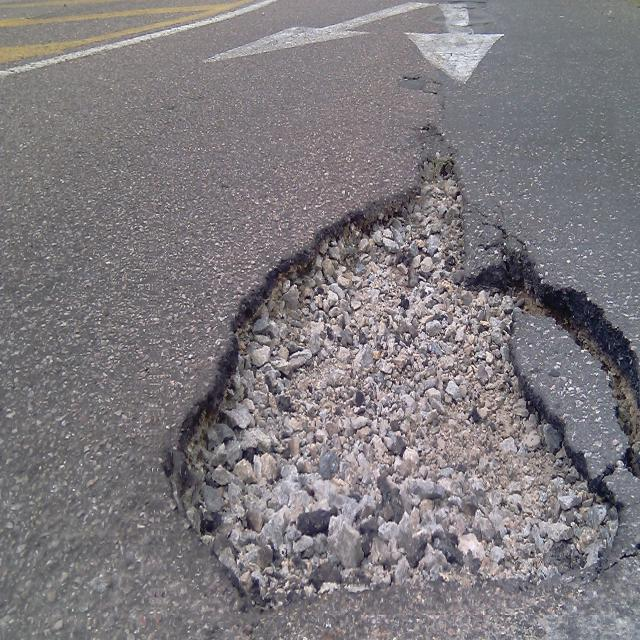Pothole: (149, 106, 640, 615)
